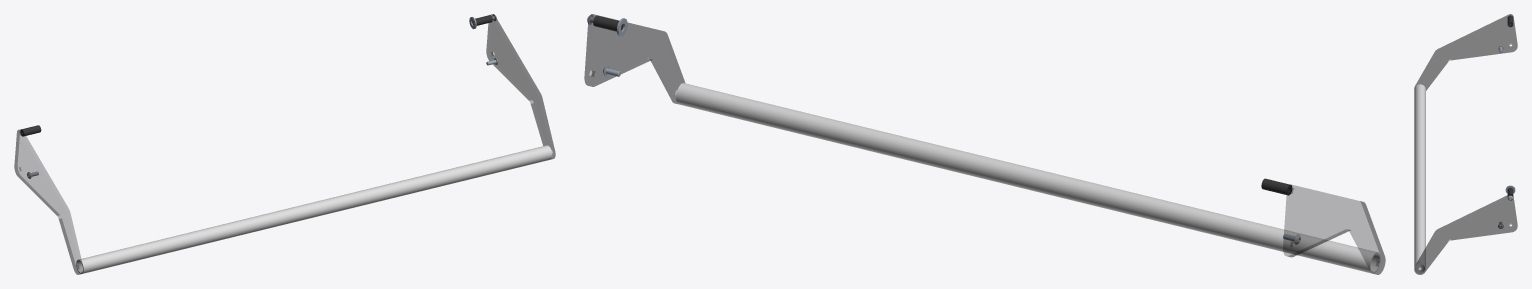
The picture shows the model from 3 angles, left to right: view 1: azimuth 30°, elevation 25°; view 2: azimuth 150°, elevation 25°; view 3: azimuth 270°, elevation 25°; orthographic projection. The views are drawn at different scales.
Visible parts, largest first — view 1: 3467-2026-B-0215, 3467-2026-B-0214 (×2); view 2: 3467-2026-B-0215, 3467-2026-B-0214 (×2); view 3: 3467-2026-B-0214 (×2), 3467-2026-B-0215, 3467-2026-B-0216.
Part boxes in pixels (x1,y1,x2,y2): 3467-2026-B-0215: (76,145,552,274); 3467-2026-B-0214 (×2): (14,14,555,274); 3467-2026-B-0215: (676,83,1380,273); 3467-2026-B-0214 (×2): (584,14,1385,274); 3467-2026-B-0214 (×2): (1414,14,1517,274); 3467-2026-B-0215: (1414,84,1425,273); 3467-2026-B-0216: (1507,15,1513,27).
Bounding box in the file's own units: 0.7036 × 0.1466 × 0.1689.
